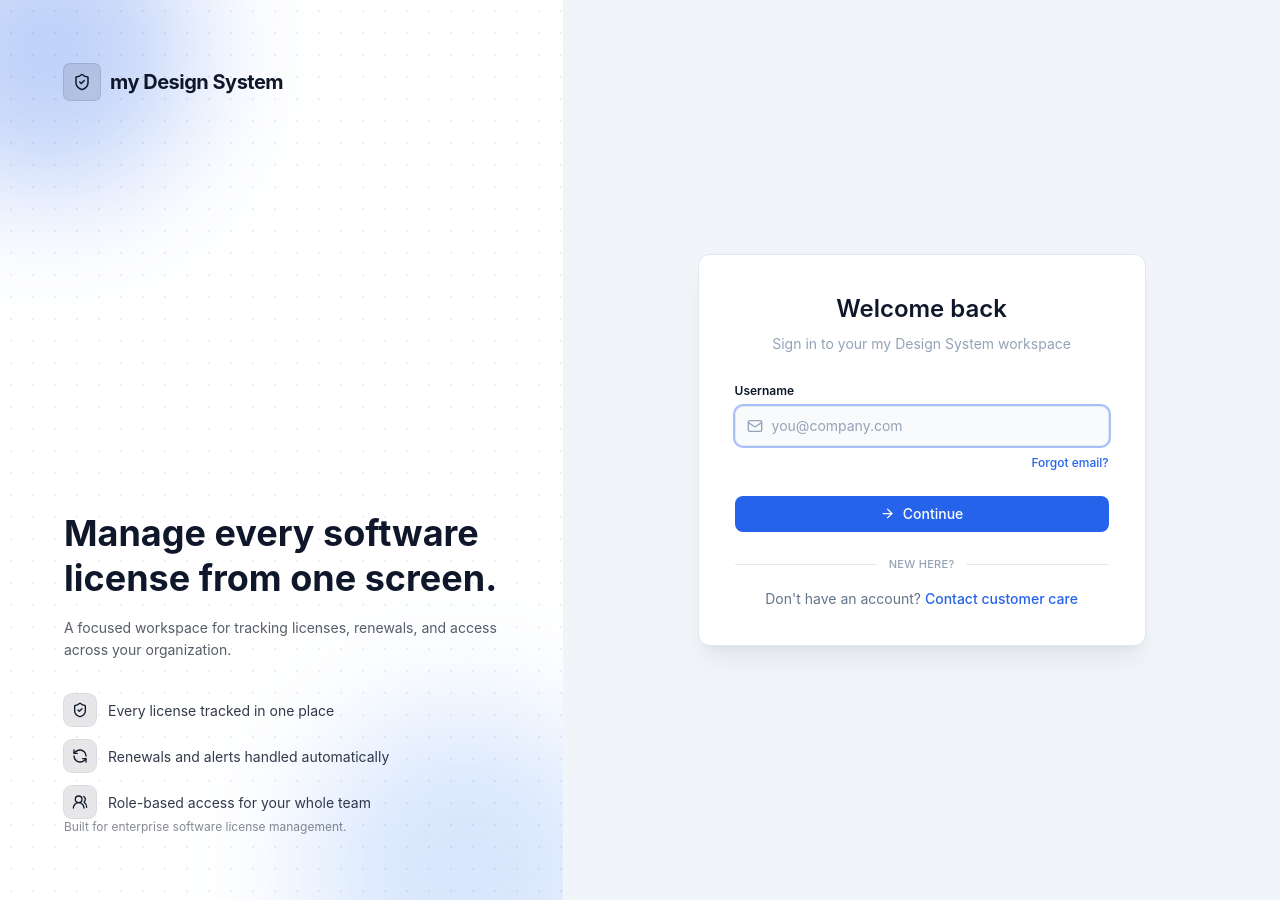
Test: sign-in › LoginForm refuses an empty identifier rather than continuing
The width and height of the screenshot is (1280, 900).
Click the button "Continue".
click(922, 514)  # box [735,496,1109,532]
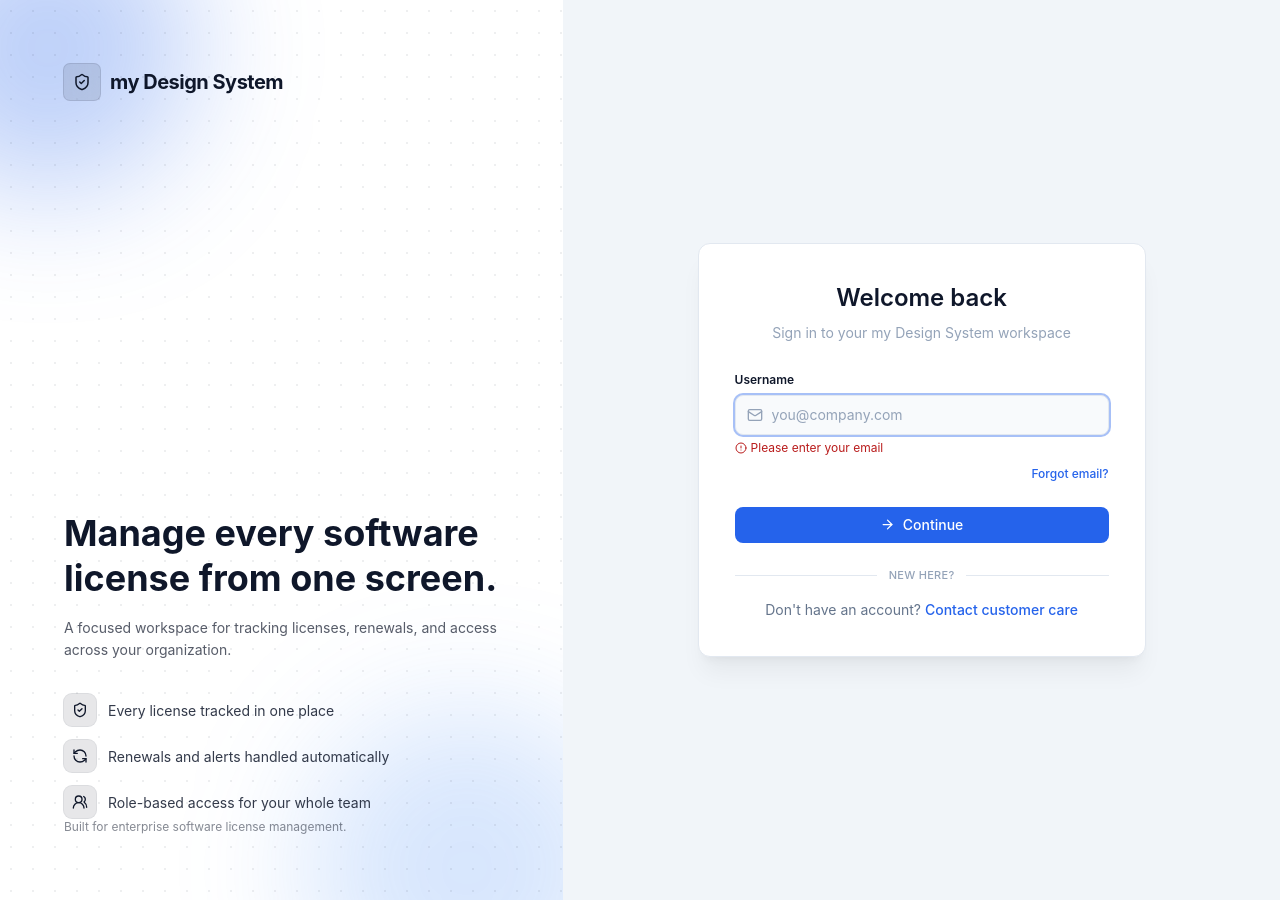
Expected: the text "Please enter your email" is shown, [735,440,883,455]
